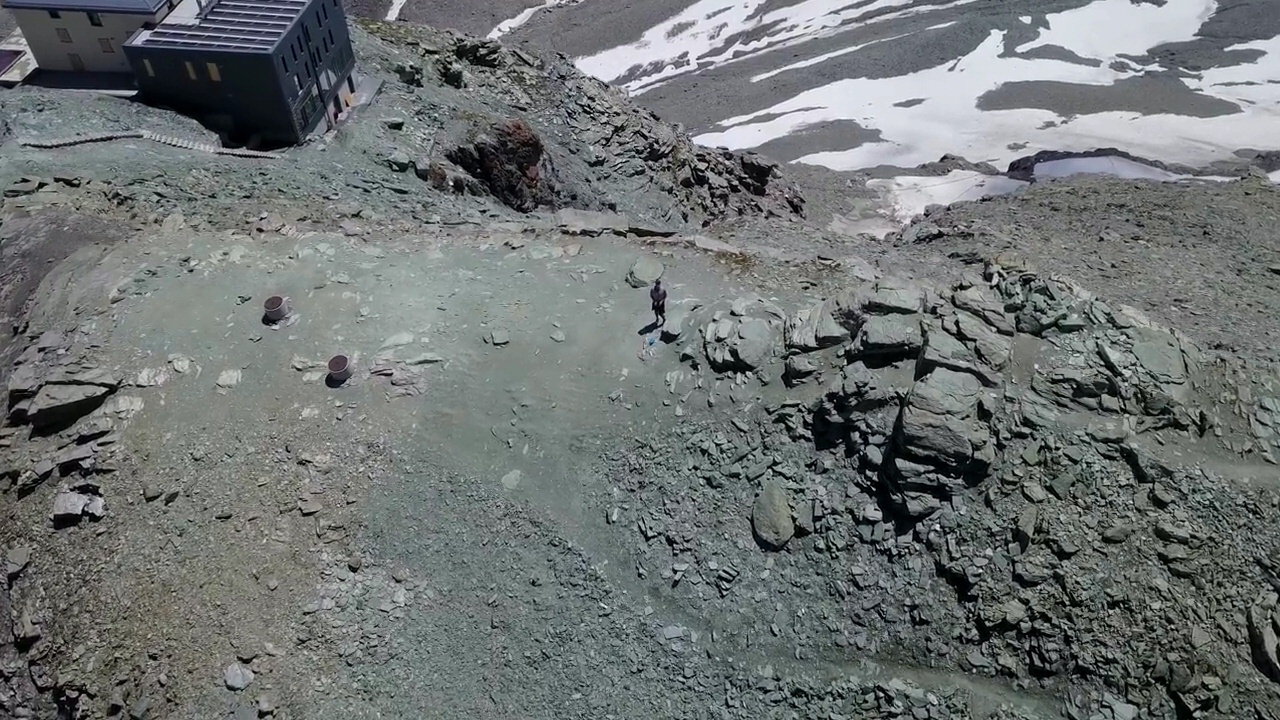insan: (645, 277, 673, 327)
